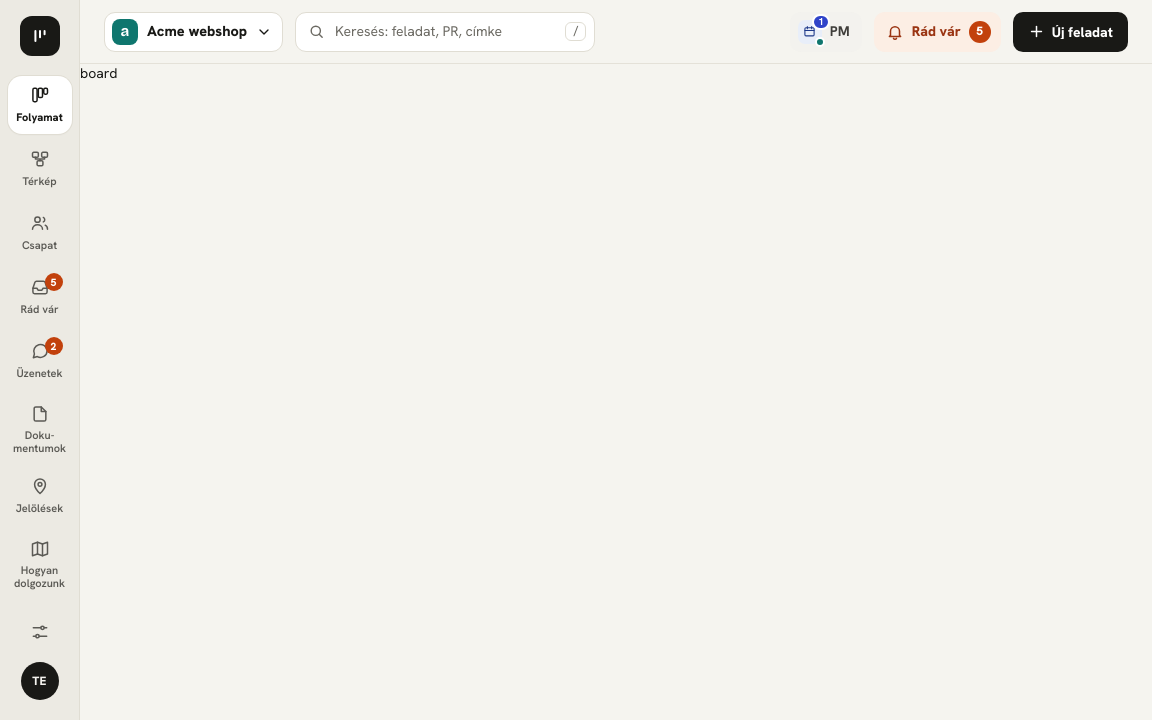
the Sor view › keeps the list on screen and shows one line when a reload fails
The width and height of the screenshot is (1152, 720).
Click the button "1 PM" at (826, 32), box [790,12,862,52]
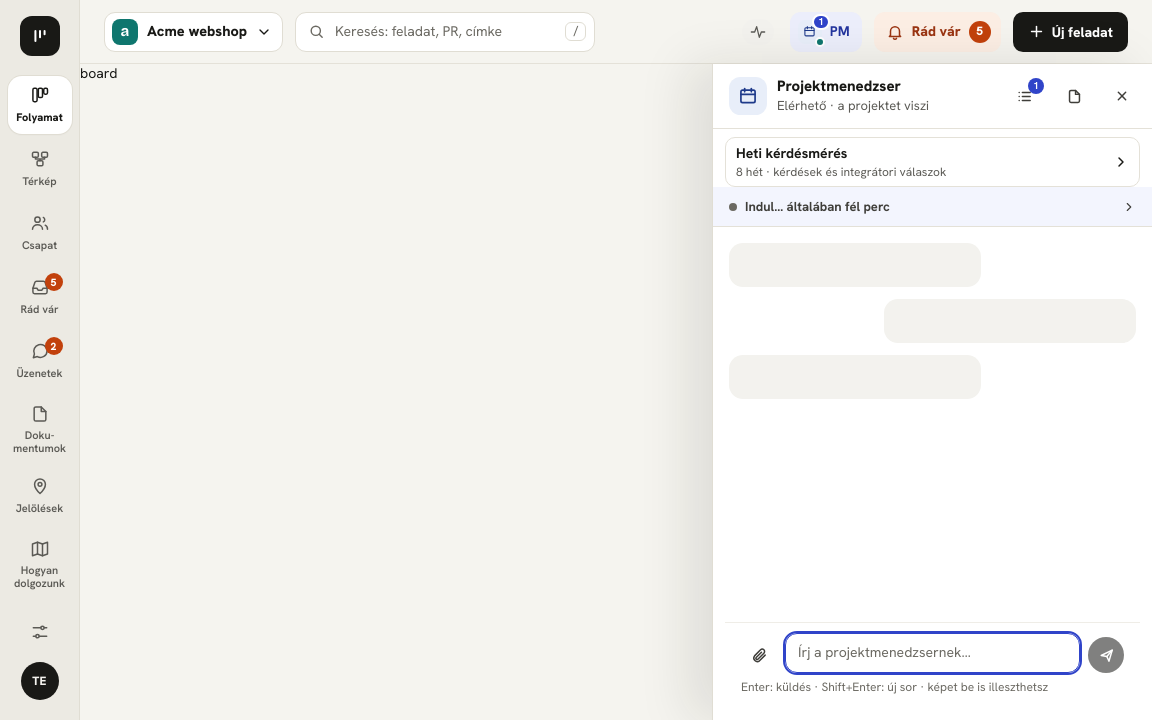
Click the button named "A projektmenedzser sora · 1 tétel" at (1024, 96), box [1004,76,1044,116]
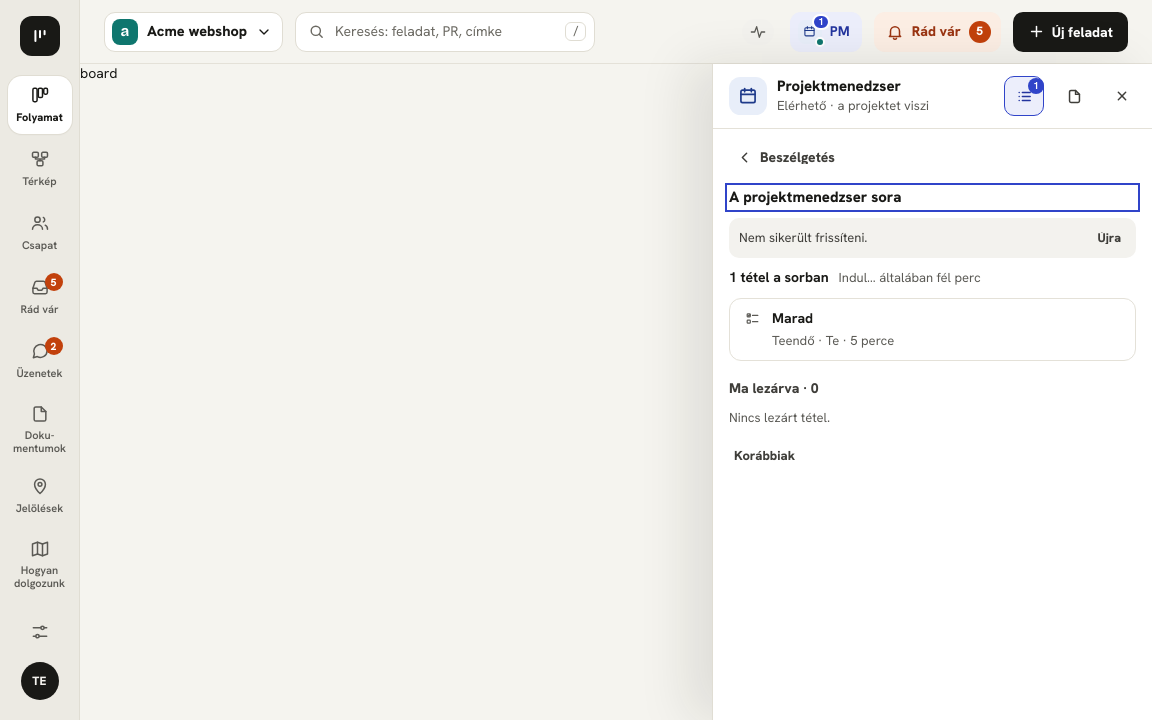
Expected: the heading "A projektmenedzser sora" is shown, [729,187,901,207]
Expected: the text "Nem sikerült frissíteni." is shown, [739,229,868,247]
Expected: the text "Marad" is shown, [772,309,813,327]
